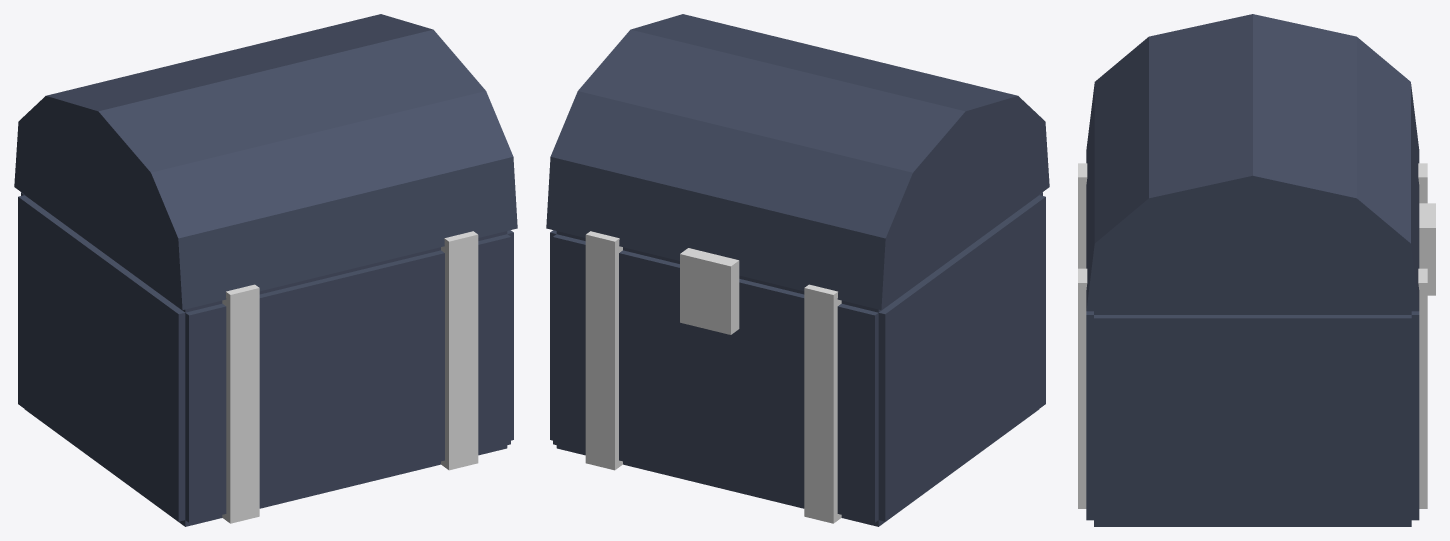
File: granite_chest_v0.glb
3 views of the same model, side by side, from view 1: azimuth 30°, elevation 25°; view 2: azimuth 150°, elevation 25°; view 3: azimuth 270°, elevation 25° (orthographic).
Visible parts, largest first — view 1: granite_chest_v0; view 2: granite_chest_v0; view 3: granite_chest_v0.
Boxes of the visible parts, box(x1,y1,x2,y2) form: granite_chest_v0: box(14, 14, 517, 526); granite_chest_v0: box(546, 14, 1049, 526); granite_chest_v0: box(1078, 14, 1435, 526).
Size of the model in its own units: 0.92 by 0.94 by 0.86.
